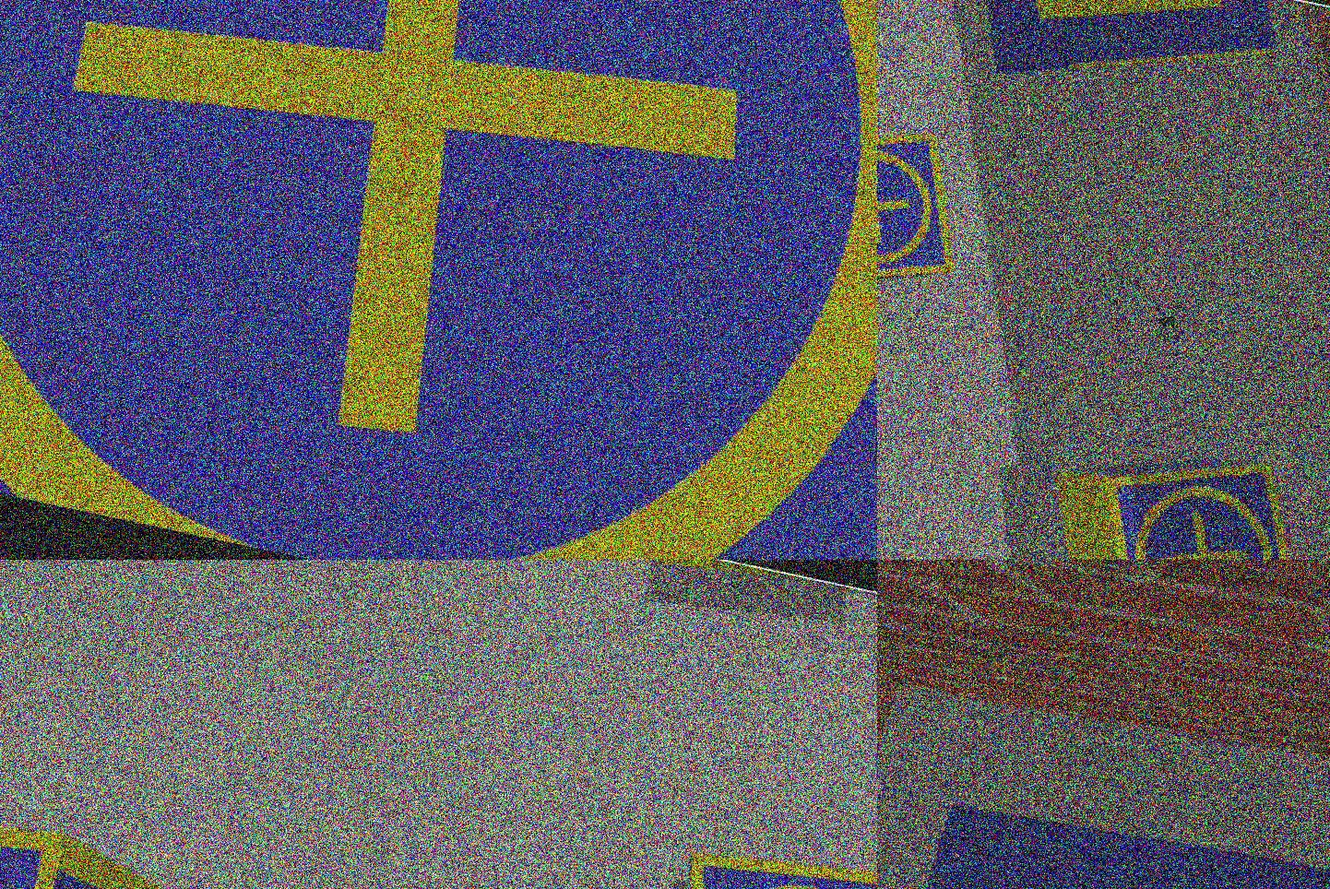large_base: (877, 765, 1330, 889), (950, 1, 1290, 126)
small_base: (1, 1, 877, 561), (1063, 432, 1330, 561), (877, 108, 980, 315)
